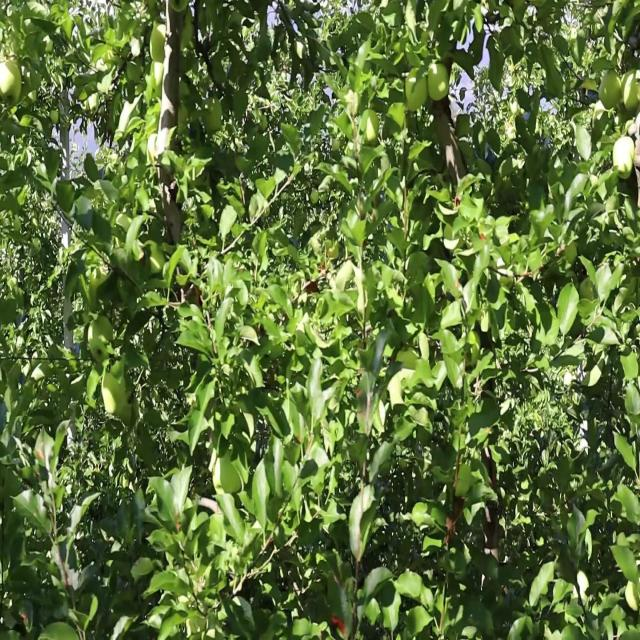apple: (0, 56, 24, 108), (600, 71, 622, 112), (428, 63, 452, 100), (616, 135, 633, 183), (408, 71, 427, 112), (204, 99, 224, 135), (448, 497, 465, 539), (624, 71, 640, 114), (308, 263, 327, 295), (364, 113, 380, 148), (356, 391, 372, 423), (16, 113, 32, 128), (216, 463, 223, 491), (636, 142, 640, 174)
